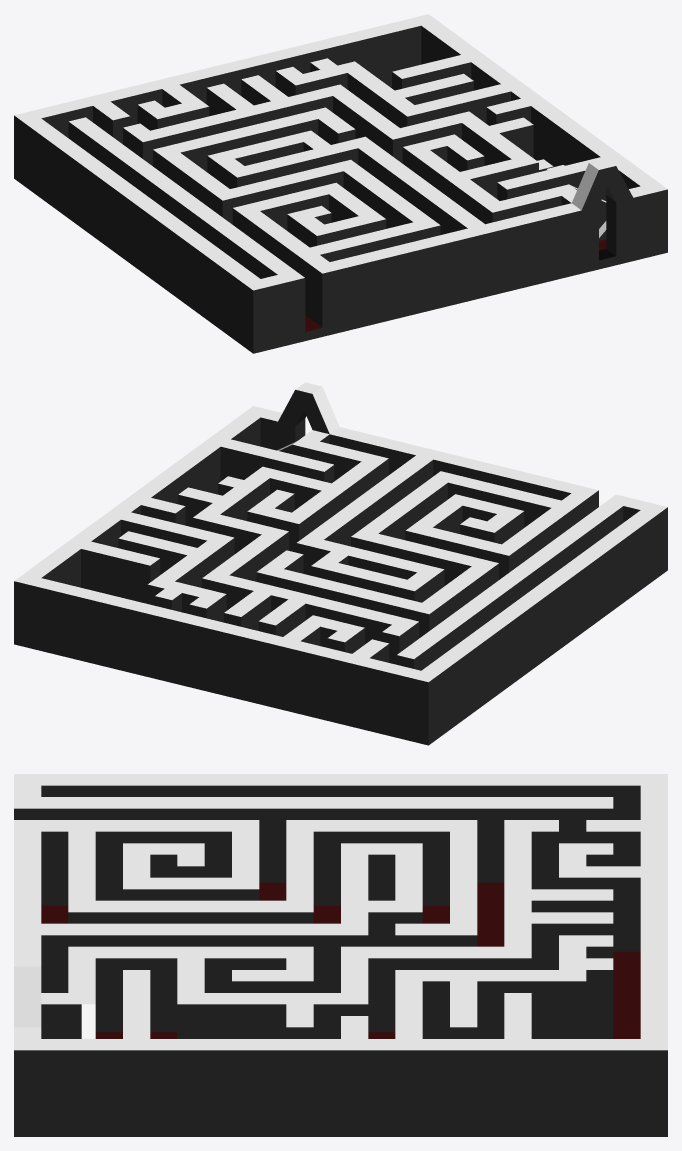
Rendered from maze1.obj.
3 renders of one model, top to bottom at view 1: azimuth 30°, elevation 25°; view 2: azimuth 150°, elevation 25°; view 3: azimuth 270°, elevation 25°, orthographic. The views are drawn at different scales.
Parts seen in each view (by area): view 1: Cube; view 2: Cube; view 3: Cube.
Boxes of the visible parts, <box> form: Cube: <box>14,14,667,353</box>; Cube: <box>14,382,667,745</box>; Cube: <box>14,774,667,1136</box>.
Bounding box in the file's own units: 48 × 11 × 48.
